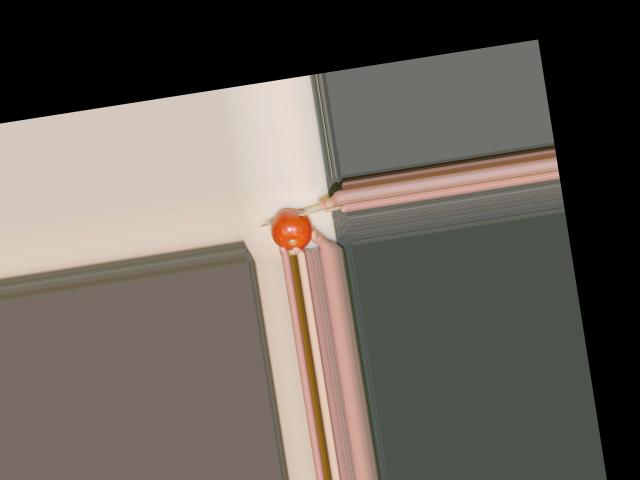tomato: (267, 205, 314, 253)
